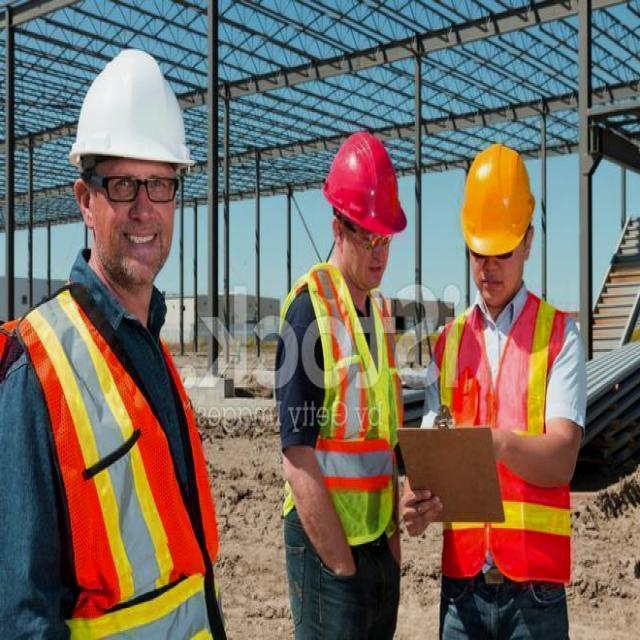face_nomask: (84, 156, 185, 284), (464, 226, 530, 301), (334, 215, 394, 285)
glasses: (102, 166, 180, 211)
hand_noglove: (400, 482, 441, 542)
head_helmet: (69, 52, 195, 162), (322, 131, 412, 231), (460, 145, 530, 256)
person: (17, 46, 197, 640), (289, 132, 410, 640), (440, 148, 566, 632)
vest: (14, 320, 188, 640), (443, 307, 575, 574), (295, 291, 391, 532)
